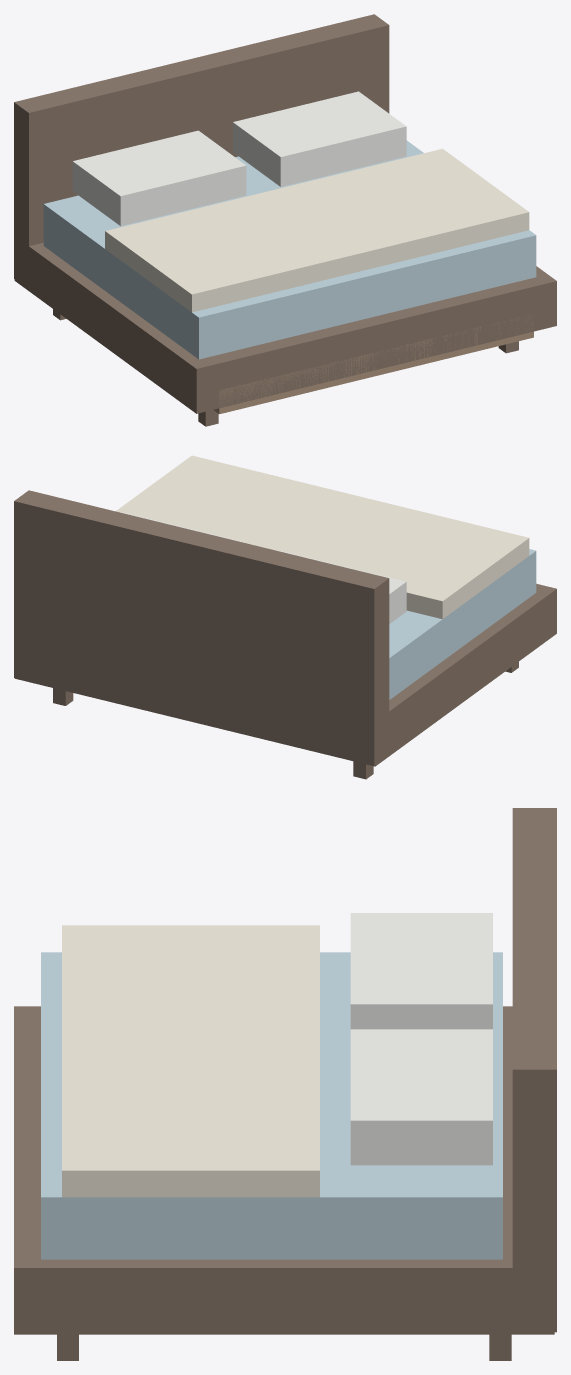
Rendered from bed_double.glb.
3 renders of one model, top to bottom at view 1: azimuth 30°, elevation 25°; view 2: azimuth 150°, elevation 25°; view 3: azimuth 270°, elevation 25°, orthographic. The views are drawn at different scales.
Parts seen in each view (by area): view 1: part_02, part_03, part_00, part_01, part_05, part_06, part_04; view 2: part_03, part_02, part_00, part_01, part_05; view 3: part_02, part_00, part_01, part_03, part_06, part_05.
Boxes of the visible parts, left/top/right/bottom form: part_02: left=105, top=148, right=529, bottom=312; part_03: left=14, top=14, right=389, bottom=285; part_00: left=14, top=236, right=556, bottom=413; part_01: left=43, top=140, right=536, bottom=359; part_05: left=72, top=130, right=246, bottom=225; part_06: left=233, top=91, right=406, bottom=186; part_04: left=213, top=314, right=533, bottom=414; part_03: left=14, top=490, right=389, bottom=765; part_02: left=116, top=455, right=529, bottom=619; part_00: left=14, top=583, right=556, bottom=766; part_01: left=389, top=549, right=536, bottom=699; part_05: left=280, top=551, right=406, bottom=623; part_02: left=62, top=925, right=319, bottom=1197; part_00: left=14, top=1006, right=554, bottom=1334; part_01: left=41, top=952, right=502, bottom=1259; part_03: left=512, top=808, right=556, bottom=1332; part_06: left=350, top=1029, right=492, bottom=1165; part_05: left=350, top=913, right=492, bottom=1029.
Bounding box in the file's own units: 2.52 × 1.38 × 2.21.
